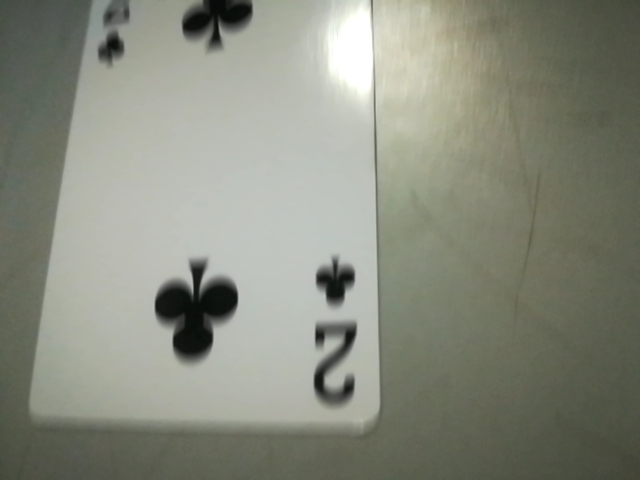mh 2: (296, 238, 375, 427)
